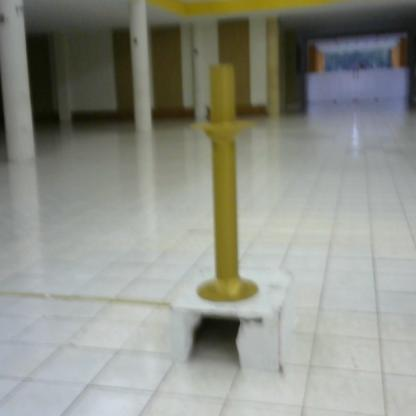pole: (184, 57, 265, 305)
